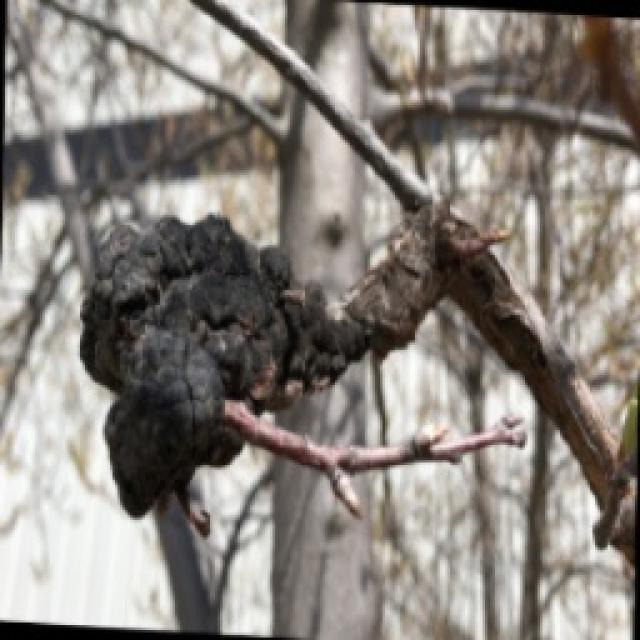Black_knot: (75, 192, 510, 522), (75, 210, 297, 522)
